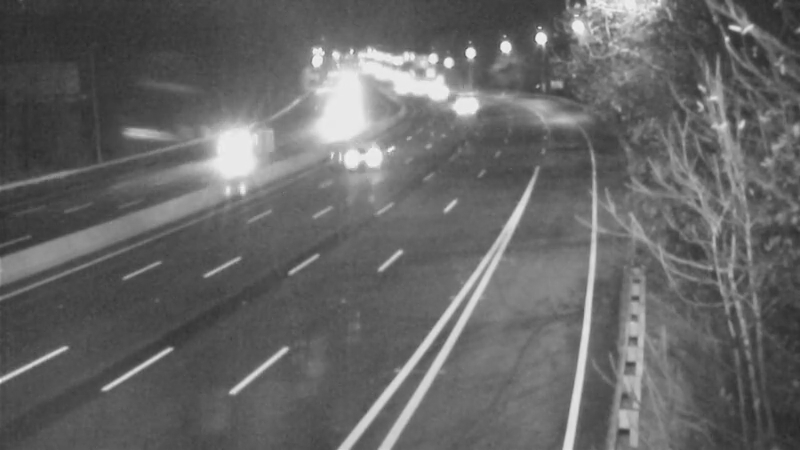vehicle: (333, 117, 413, 197), (198, 119, 278, 199), (441, 80, 491, 130)
